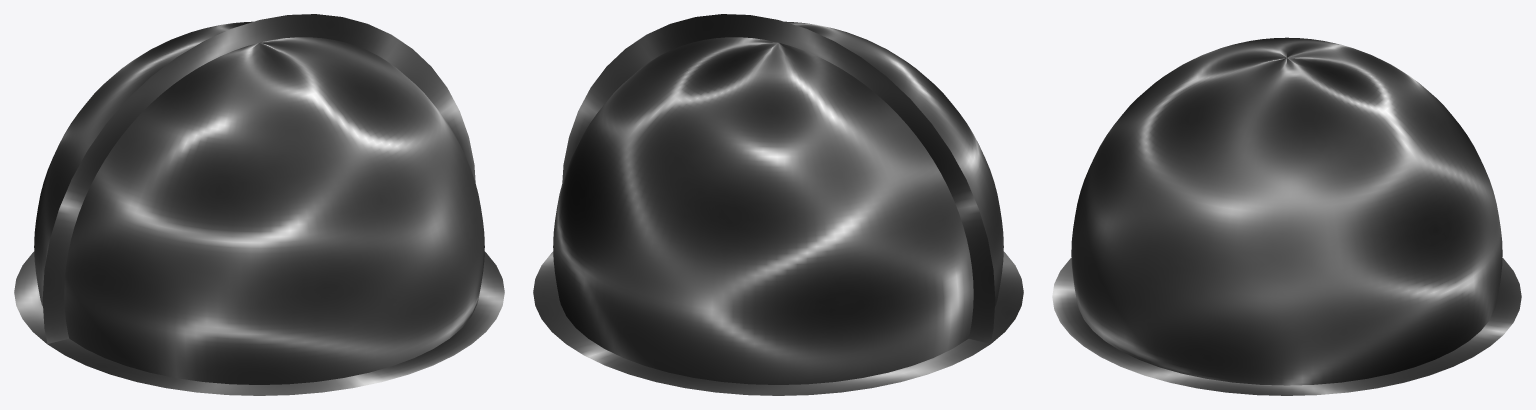
File: eff_Dome03.fbx
The picture shows the model from 3 angles, left to right: view 1: azimuth 30°, elevation 25°; view 2: azimuth 150°, elevation 25°; view 3: azimuth 270°, elevation 25°; orthographic projection. The views are drawn at different scales.
Visible parts, largest first — view 1: eff_Dome03_rear_msh, eff_Dome03_wall_msh, eff_Dome03_btm_msh, eff_Dome03_front_msh; view 2: eff_Dome03_front_msh, eff_Dome03_wall_msh, eff_Dome03_btm_msh, eff_Dome03_rear_msh; view 3: eff_Dome03_front_msh, eff_Dome03_rear_msh, eff_Dome03_btm_msh.
Part boxes in pixels (bbox=[...]): eff_Dome03_rear_msh: bbox=[64, 37, 484, 384]; eff_Dome03_wall_msh: bbox=[42, 14, 475, 343]; eff_Dome03_btm_msh: bbox=[14, 251, 504, 395]; eff_Dome03_front_msh: bbox=[34, 21, 253, 306]; eff_Dome03_front_msh: bbox=[553, 37, 973, 384]; eff_Dome03_wall_msh: bbox=[562, 14, 995, 343]; eff_Dome03_btm_msh: bbox=[533, 251, 1023, 395]; eff_Dome03_rear_msh: bbox=[784, 21, 1003, 306]; eff_Dome03_front_msh: bbox=[1287, 37, 1502, 385]; eff_Dome03_rear_msh: bbox=[1071, 37, 1286, 385]; eff_Dome03_btm_msh: bbox=[1052, 258, 1521, 395].
Bounding box in the file's own units: 10 × 6 × 9.8.
